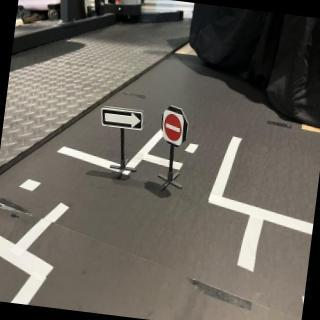sign_noentry: (161, 110, 188, 148)
sign_oneway_right: (100, 106, 147, 133)
